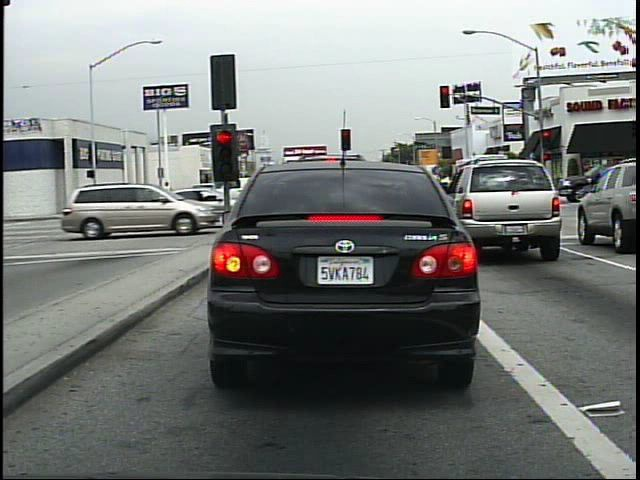person: (155, 178, 178, 217)
